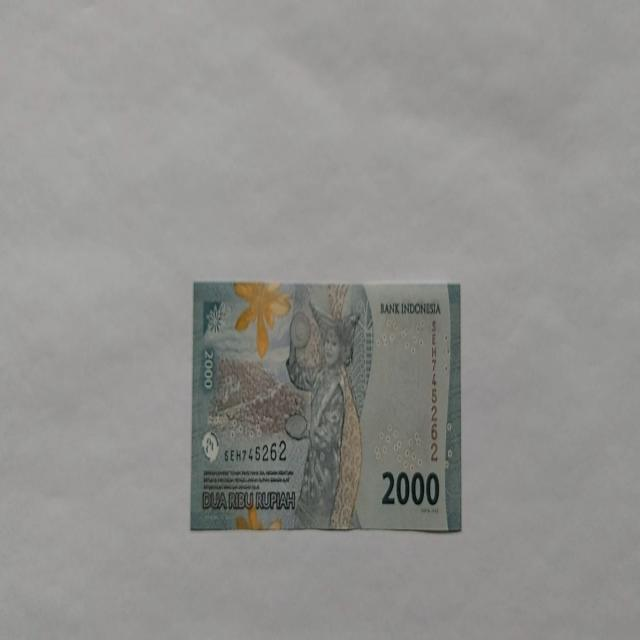dua ribu rupiah: (190, 279, 462, 533), (284, 298, 364, 530)
